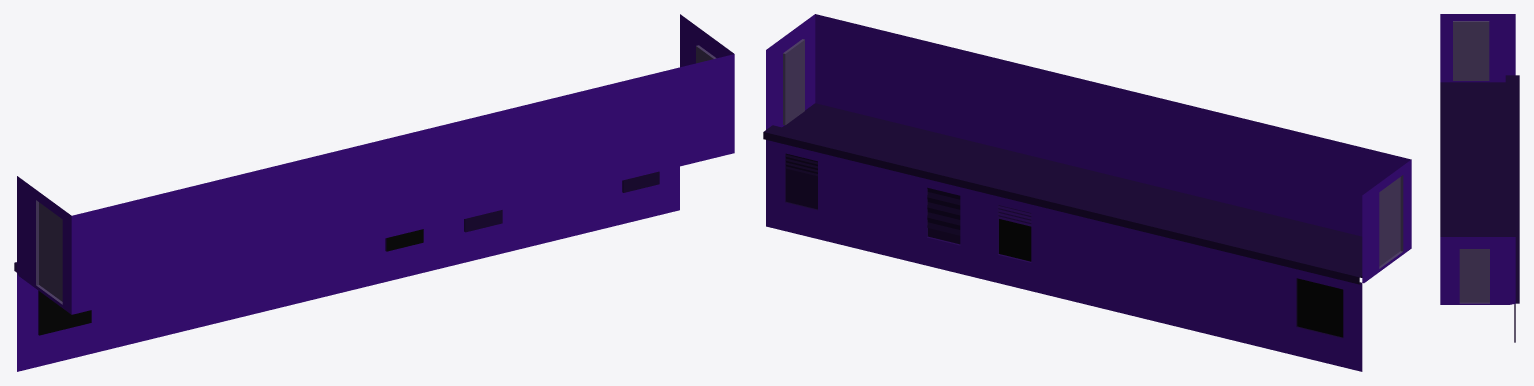
Rendered from RunnablePartLong2.fbx.
The picture shows the model from 3 angles, left to right: view 1: azimuth 30°, elevation 25°; view 2: azimuth 150°, elevation 25°; view 3: azimuth 270°, elevation 25°; orthographic projection. The views are drawn at different scales.
Parts seen in each view (by area): view 1: Plane.007; view 2: Plane.007; view 3: Plane.007.
Boxes of the visible parts, <box> form: Plane.007: <box>14,14,734,371</box>; Plane.007: <box>763,14,1411,371</box>; Plane.007: <box>1440,14,1519,342</box>.
Bounding box in the file's own units: 14000 × 3960 × 2103.
